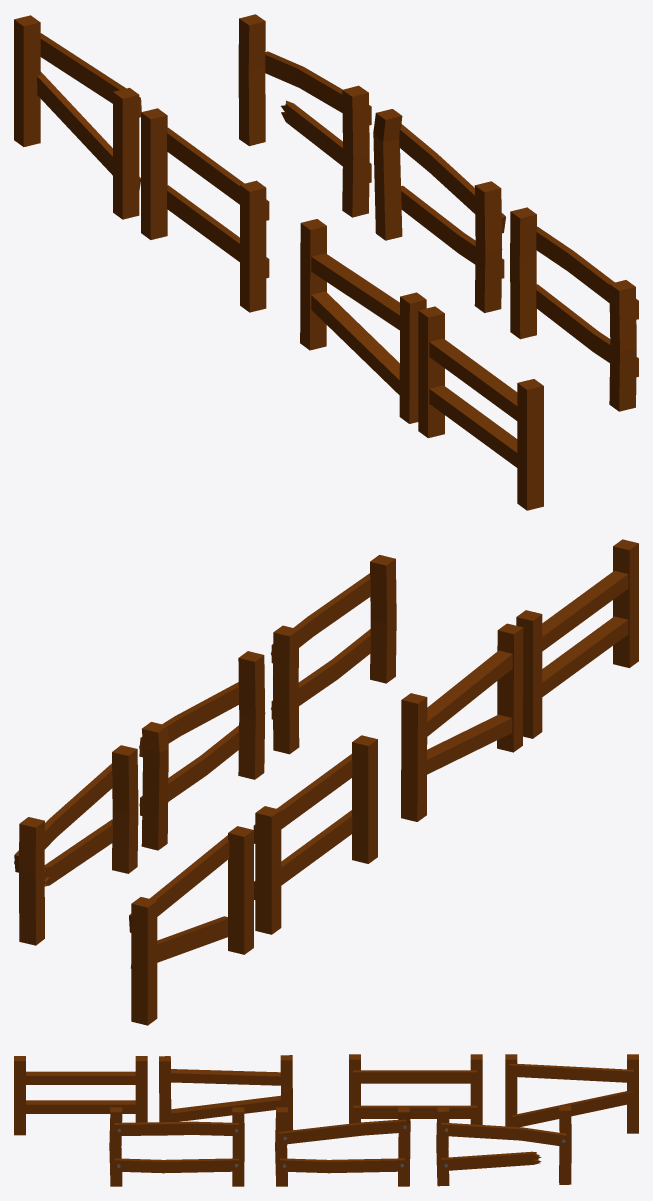
Rendered from 1Simple_Fences_fbx_Collection.fbx.
3 renders of one model, top to bottom at view 1: azimuth 30°, elevation 25°; view 2: azimuth 150°, elevation 25°; view 3: azimuth 270°, elevation 25°, orthographic. The views are drawn at different scales.
Parts seen in each view (by area): view 1: Fence_Basic_01, Fence_Warped_nails_02, Fence_slats_02, Fence_Warped_nails_01, Fence_slats_01, Fence_Basic_02, Fence_Warped_nails_03; view 2: Fence_Basic_02, Fence_Warped_nails_01, Fence_slats_01, Fence_Warped_nails_02, Fence_slats_02, Fence_Warped_nails_03, Fence_Basic_01; view 3: Fence_Warped_nails_01, Fence_Warped_nails_02, Fence_Warped_nails_03, Fence_slats_02, Fence_Basic_01, Fence_Basic_02, Fence_slats_01.
Part boxes in pixels (left/top/right/bottom): Fence_Basic_01: left=418, top=306, right=543, bottom=510; Fence_Warped_nails_02: left=373, top=109, right=505, bottom=312; Fence_slats_02: left=14, top=15, right=141, bottom=219; Fence_Warped_nails_01: left=510, top=207, right=638, bottom=411; Fence_slats_01: left=141, top=108, right=269, bottom=312; Fence_Basic_02: left=300, top=219, right=426, bottom=423; Fence_Warped_nails_03: left=238, top=14, right=371, bottom=217; Fence_Basic_02: left=401, top=623, right=523, bottom=821; Fence_Warped_nails_01: left=270, top=555, right=396, bottom=754; Fence_slats_01: left=253, top=735, right=377, bottom=934; Fence_Warped_nails_02: left=139, top=651, right=265, bottom=850; Fence_slats_02: left=129, top=826, right=253, bottom=1025; Fence_Warped_nails_03: left=14, top=745, right=138, bottom=945; Fence_Basic_01: left=516, top=539, right=638, bottom=738; Fence_Warped_nails_01: left=109, top=1107, right=244, bottom=1186; Fence_Warped_nails_02: left=275, top=1107, right=410, bottom=1186; Fence_Warped_nails_03: left=436, top=1105, right=571, bottom=1186; Fence_slats_02: left=505, top=1054, right=638, bottom=1133; Fence_Basic_01: left=14, top=1056, right=147, bottom=1135; Fence_Basic_02: left=159, top=1055, right=293, bottom=1135; Fence_slats_01: left=349, top=1054, right=482, bottom=1124.
Size of the model in its own units: 733 by 427 by 3215.
